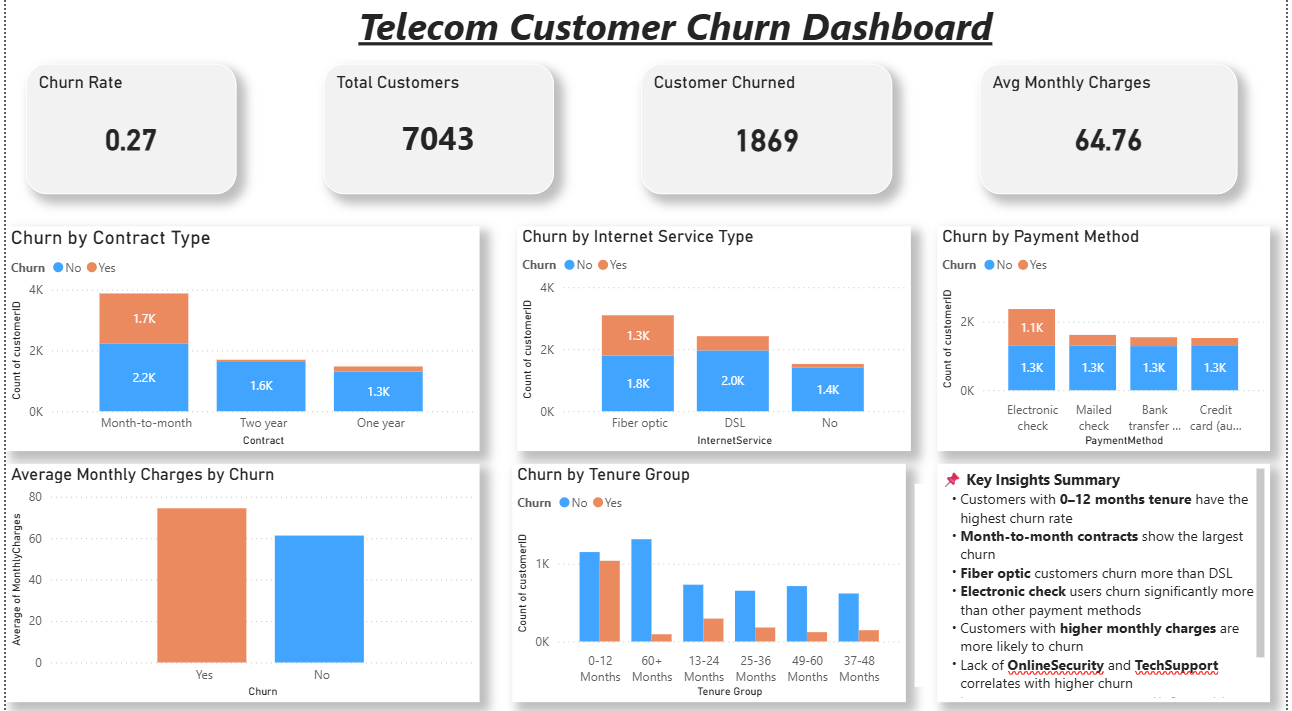

What the dashboard file says about the page in this screenshot:
{"tool":"powerbi","page":{"name":"Page 1","canvas":[1280,720],"ordinal":0},"visuals":[{"type":"card","title":"Churn Rate","fields":{"Values":["telco_churn.Churn Rate"]},"box":[20,68.8,210,130],"z":0},{"type":"card","title":"Total Customers","fields":{"Values":["telco_churn.Total Customers"]},"box":[317.5,68.8,230,130],"z":1000},{"type":"card","title":"Customer Churned","fields":{"Values":["telco_churn.Churned Customers"]},"box":[635,68.8,251.2,130],"z":2000},{"type":"card","title":"Avg Monthly Charges","fields":{"Values":["telco_churn.Avg Monthly Charges"]},"box":[973.8,68.8,257.5,130],"z":3000},{"type":"columnChart","title":"Churn by Contract Type","fields":{"Category":["telco_churn.Contract"],"Series":["telco_churn.Churn"],"Y":["CountNonNull(telco_churn.customerID)"]},"box":[0,231.2,473.8,225],"z":4000},{"type":"columnChart","title":"Churn by Internet Service Type","fields":{"Category":["telco_churn.InternetService"],"Series":["telco_churn.Churn"],"Y":["CountNonNull(telco_churn.customerID)"]},"box":[511.2,231.2,393.8,225],"z":5000},{"type":"columnChart","title":"Churn by Payment Method","fields":{"Category":["telco_churn.PaymentMethod"],"Series":["telco_churn.Churn"],"Y":["CountNonNull(telco_churn.customerID)"]},"box":[931.2,231.2,332.5,225],"z":6000},{"type":"columnChart","title":"Average Monthly Charges by Churn","fields":{"Category":["telco_churn.Churn"],"Y":["Avg(telco_churn.MonthlyCharges)"]},"box":[0,468.8,473.8,238.8],"z":7000},{"type":"clusteredColumnChart","title":"Churn by Tenure Group","fields":{"Category":["telco_churn.Tenure Group"],"Series":["telco_churn.Churn"],"Y":["CountNonNull(telco_churn.customerID)"]},"box":[505.6,468.8,393.8,238.8],"z":8000},{"type":"textbox","box":[310,0,718.8,63.8],"z":9000},{"type":"textbox","box":[909,489,323,203],"z":10000},{"type":"textbox","box":[931.2,468.8,332.5,238.8],"z":11000}]}

Visuals, with their boxes in screenshot pixels (x1, y1, x2, y2), scaled from the page's 1280x720 canvas onto the 1292x711 screenshot:
"Churn Rate" card: 20,68,232,196
"Total Customers" card: 320,68,553,196
"Customer Churned" card: 641,68,895,196
"Avg Monthly Charges" card: 983,68,1243,196
"Churn by Contract Type" columnChart: 0,228,478,450
"Churn by Internet Service Type" columnChart: 516,228,913,450
"Churn by Payment Method" columnChart: 940,228,1276,450
"Average Monthly Charges by Churn" columnChart: 0,463,478,699
"Churn by Tenure Group" clusteredColumnChart: 510,463,908,699
textbox: 313,0,1038,63
textbox: 918,483,1244,683
textbox: 940,463,1276,699
